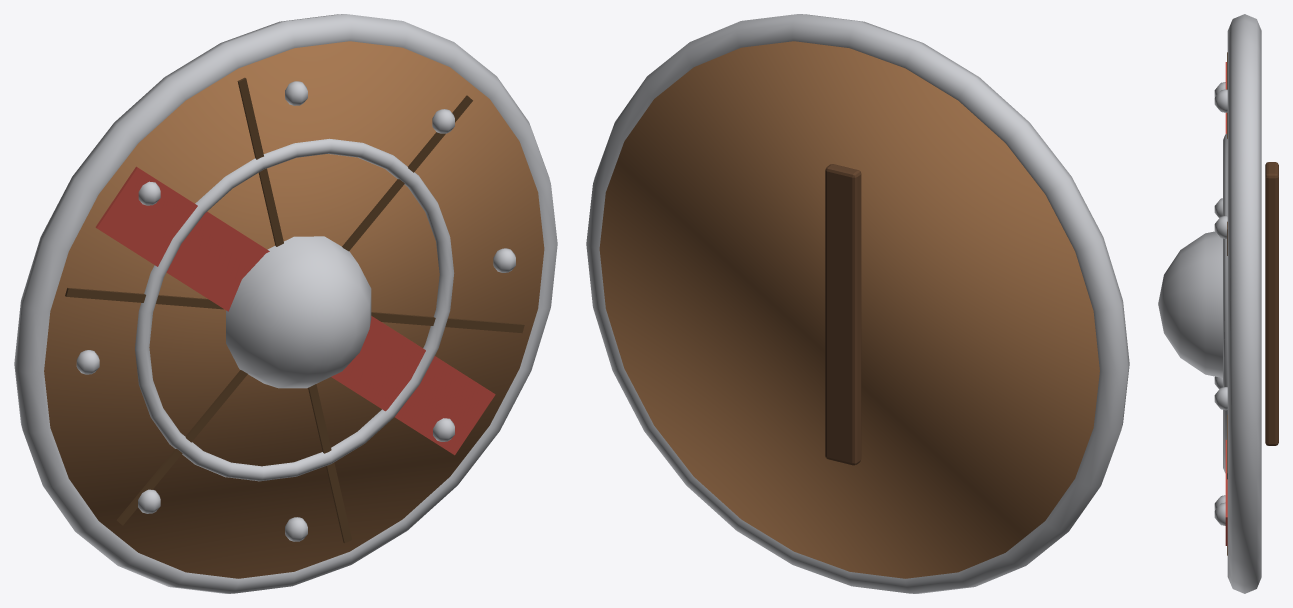
File: heavy-shield.glb
3 renders of one model, left to right at view 1: azimuth 30°, elevation 25°; view 2: azimuth 150°, elevation 25°; view 3: azimuth 270°, elevation 25°, orthographic. The views are drawn at different scales.
Visible parts, largest first — view 1: heavy-shield; view 2: heavy-shield; view 3: heavy-shield.
Part boxes in pixels (x1,y1,x2,y2): heavy-shield: (14, 14, 557, 593); heavy-shield: (586, 14, 1129, 593); heavy-shield: (1158, 14, 1278, 593).
Bounding box in the file's own units: 1.7 × 1.7 × 0.354.
